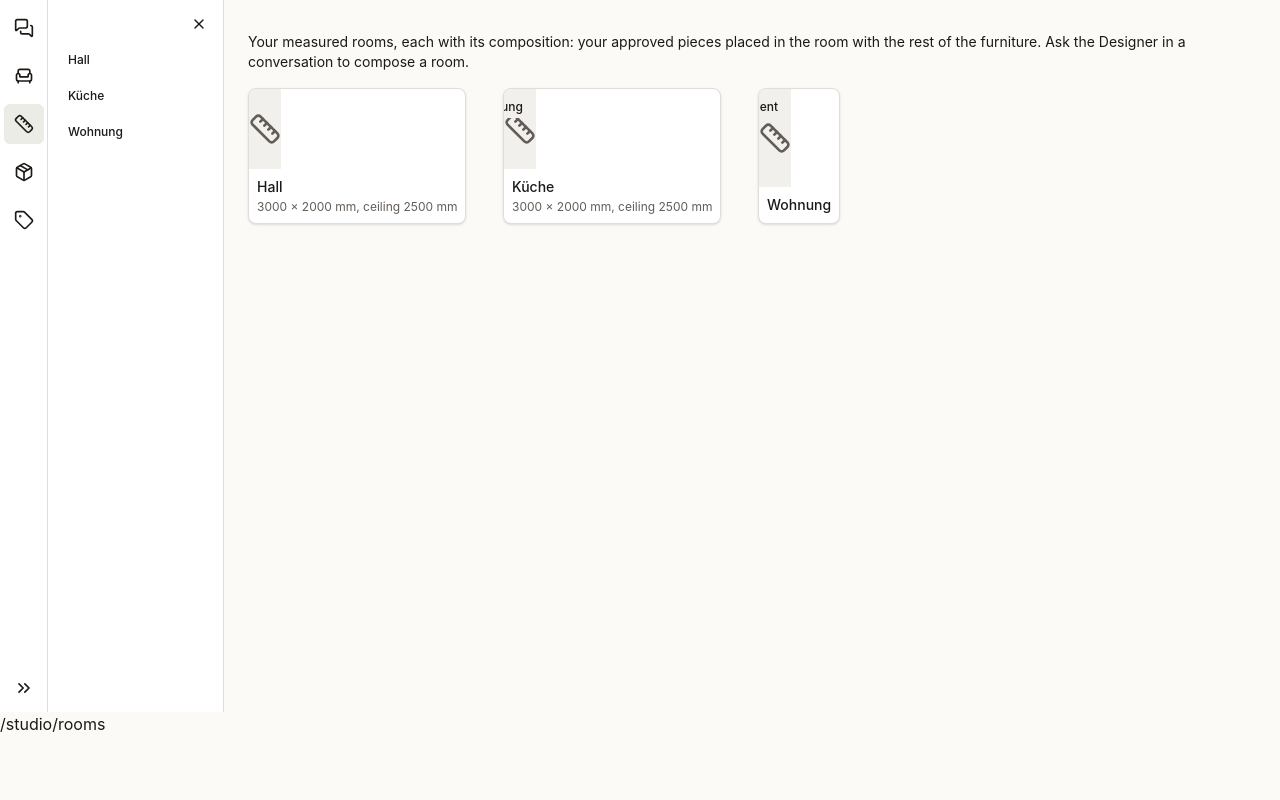
Test: a composition's name opens its dialog (Composition name opens its dialog)
Click the link "Wohnung".
click(96, 132)  # box [68,124,123,139]
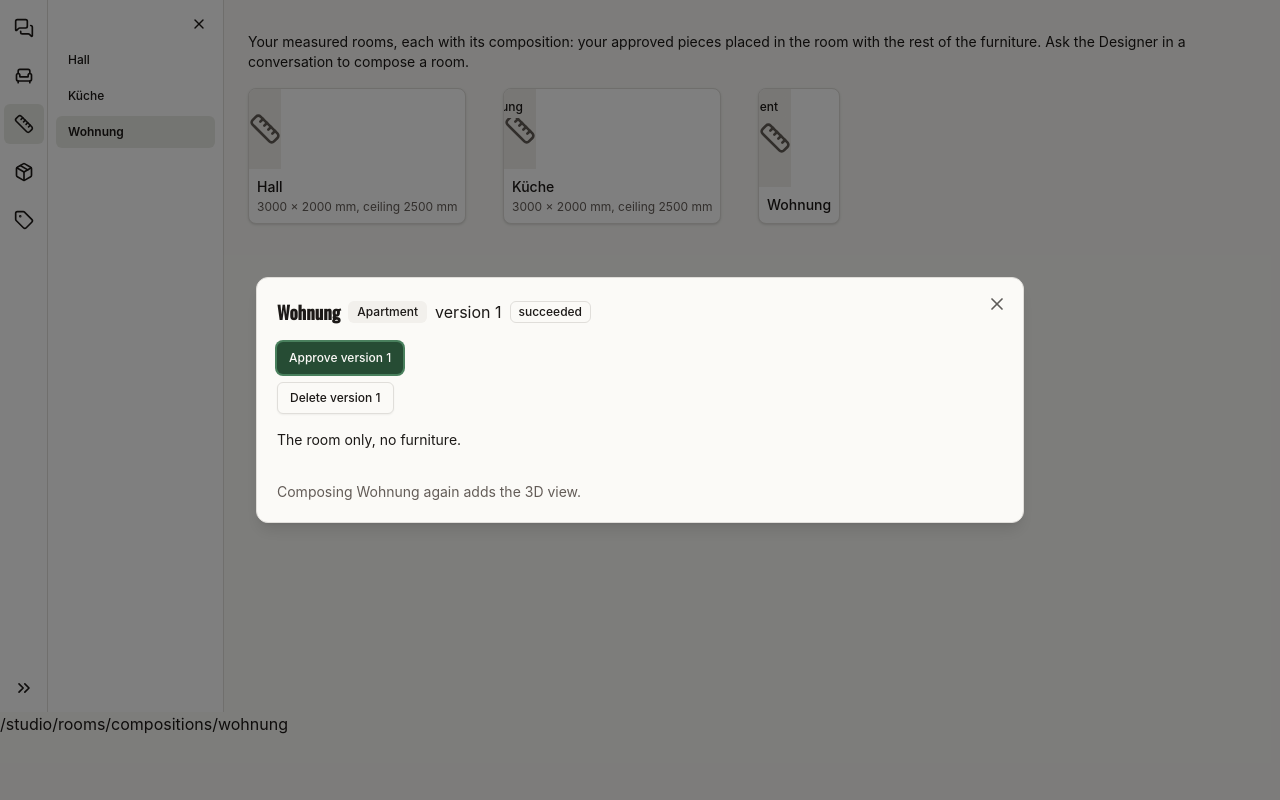
Now the text named "address" reads "/studio/rooms/compositions/wohnung", box [0,714,288,734]
Now the dialog "Wohnung" is shown, box [256,277,1024,523]
